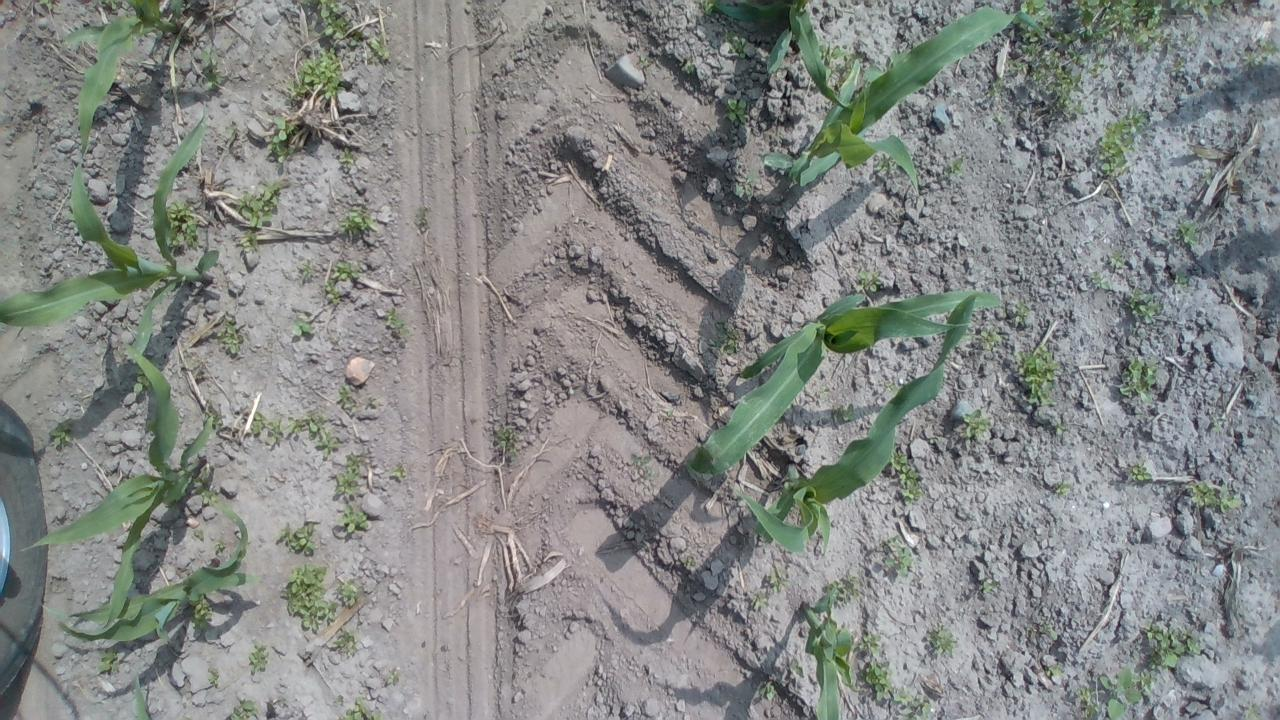Maize: (736, 295, 979, 557), (690, 288, 1001, 483), (19, 340, 217, 642), (761, 3, 1046, 199), (0, 102, 209, 362), (40, 503, 262, 647), (64, 0, 176, 162), (714, 0, 854, 116), (799, 583, 856, 720), (131, 673, 153, 720)
Weeds: (1007, 0, 1171, 123), (1098, 623, 1201, 720), (250, 408, 342, 461), (279, 564, 339, 634), (1096, 107, 1152, 177), (1014, 342, 1060, 417), (286, 45, 346, 100), (301, 0, 362, 46), (859, 633, 896, 703), (240, 178, 288, 228), (1183, 478, 1243, 513), (702, 320, 744, 369), (1119, 354, 1161, 402), (889, 448, 924, 504), (164, 199, 200, 250), (322, 259, 361, 305), (261, 112, 295, 162), (336, 203, 380, 240), (880, 534, 916, 578), (276, 520, 320, 556), (335, 382, 384, 414), (190, 465, 224, 509), (1124, 286, 1164, 322), (334, 694, 386, 720), (925, 622, 959, 660), (194, 45, 222, 91), (334, 450, 362, 496), (1241, 36, 1278, 70), (44, 415, 79, 450), (830, 574, 864, 608), (334, 502, 368, 536), (214, 318, 244, 356), (960, 408, 992, 442), (122, 368, 150, 406), (732, 165, 762, 200), (984, 77, 1006, 124), (894, 694, 933, 720), (1074, 685, 1102, 720), (1169, 0, 1227, 16), (495, 424, 522, 458), (190, 593, 214, 630), (724, 28, 750, 61), (248, 640, 273, 674), (725, 97, 753, 127), (384, 306, 410, 337), (200, 398, 223, 432), (972, 324, 1002, 350), (368, 34, 392, 66), (817, 42, 849, 66), (630, 452, 657, 480), (1174, 220, 1200, 248), (336, 579, 362, 606), (95, 646, 120, 674), (333, 630, 358, 658), (764, 566, 786, 594), (1010, 298, 1030, 328), (232, 697, 258, 720), (858, 269, 882, 293), (1127, 462, 1154, 483), (288, 315, 312, 337), (943, 156, 966, 178), (874, 152, 896, 174), (757, 679, 780, 700), (1090, 270, 1114, 290), (831, 404, 855, 423), (300, 258, 320, 280), (694, 0, 721, 15), (239, 230, 256, 252), (1242, 703, 1264, 720), (750, 591, 769, 610), (1106, 248, 1124, 268), (416, 206, 430, 231), (812, 384, 833, 400), (1210, 415, 1228, 433), (1040, 622, 1058, 640), (338, 148, 354, 168), (206, 666, 222, 686), (91, 0, 122, 10), (392, 463, 409, 481), (210, 535, 226, 553), (1045, 663, 1065, 677), (1054, 481, 1072, 496), (224, 126, 242, 140), (1172, 56, 1186, 74), (681, 59, 696, 75), (1173, 271, 1187, 288), (980, 577, 994, 593), (882, 382, 899, 395), (1202, 167, 1214, 185), (1184, 31, 1198, 46), (38, 0, 55, 12), (192, 528, 205, 542), (927, 435, 946, 444), (681, 559, 700, 568), (386, 672, 398, 686), (638, 54, 652, 66), (1054, 422, 1067, 434), (791, 661, 801, 673), (665, 410, 673, 416), (223, 524, 230, 528)
